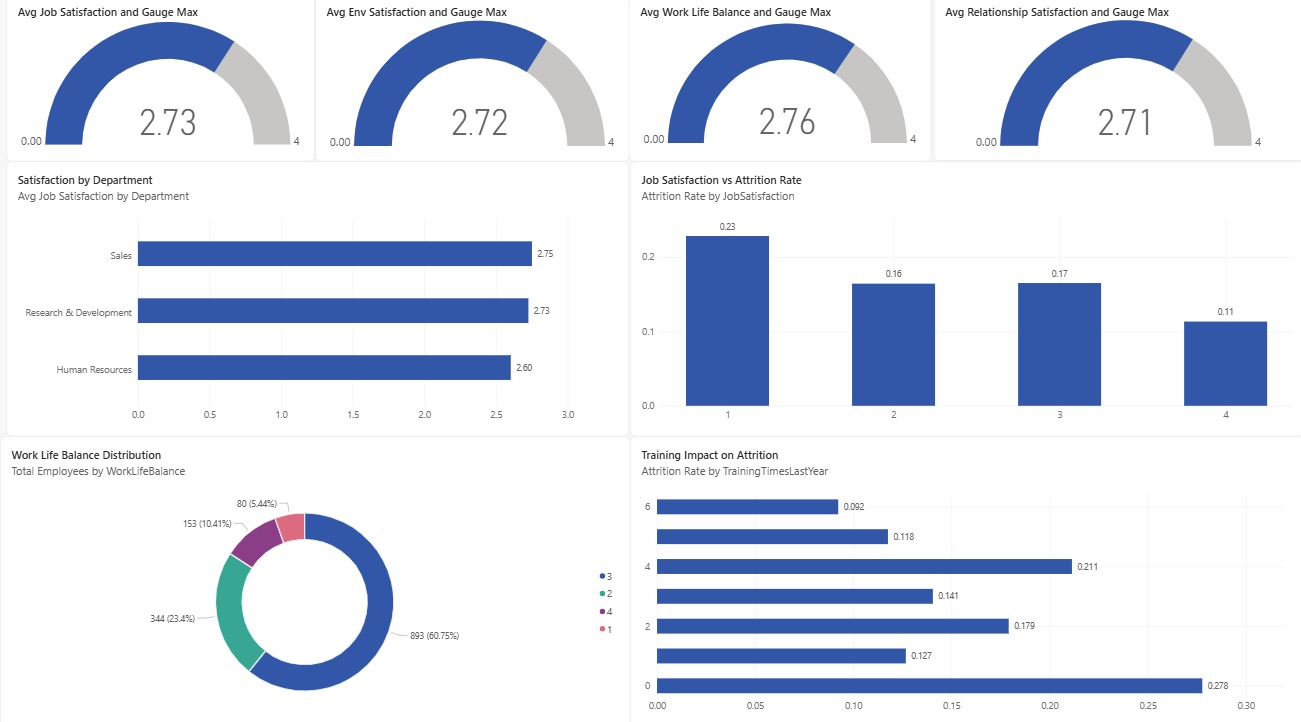

This screenshot's page, from the dashboard's own definition file:
{"tool":"powerbi","page":{"name":"SATISFACTION ANALYSIS","canvas":[1920,1080],"ordinal":2},"visuals":[{"type":"gauge","fields":{"MaxValue":["vw_hr_main.Gauge Max"],"Y":["vw_hr_main.Avg Job Satisfaction"]},"box":[9.2,0,454.6,246.6],"z":0},{"type":"gauge","fields":{"MaxValue":["vw_hr_main.Gauge Max"],"Y":["vw_hr_main.Avg Env Satisfaction"]},"box":[463.1,0,463.1,246.7],"z":1000},{"type":"gauge","fields":{"MaxValue":["vw_hr_main.Gauge Max"],"Y":["vw_hr_main.Avg Work Life Balance"]},"box":[926.3,0,445.8,246.7],"z":2000},{"type":"gauge","fields":{"MaxValue":["vw_hr_main.Gauge Max"],"Y":["vw_hr_main.Avg Relationship Satisfaction"]},"box":[1374.8,0,544.8,245.7],"z":3000},{"type":"clusteredBarChart","title":"Satisfaction by Department","fields":{"Category":["vw_hr_main.Department"],"Y":["vw_hr_main.Avg Job Satisfaction"]},"box":[9.2,246.6,916.6,404.9],"z":4000},{"type":"clusteredColumnChart","title":"Job Satisfaction vs Attrition Rate","fields":{"Category":["vw_hr_main.JobSatisfaction"],"Y":["vw_hr_main.Attrition Rate"]},"box":[927.6,246.6,992,404.9],"z":5000},{"type":"donutChart","title":"Work Life Balance Distribution","fields":{"Category":["vw_hr_main.WorkLifeBalance"],"Y":["vw_hr_main.Total Employees"]},"box":[0,651.5,927.6,428.8],"z":6000},{"type":"clusteredBarChart","title":"Training Impact on Attrition","fields":{"Category":["vw_hr_main.TrainingTimesLastYear"],"Y":["vw_hr_main.Attrition Rate"]},"box":[927.6,651.5,992,428.8],"z":7000}]}

Visuals, with their boxes in screenshot pixels (x1, y1, x2, y2), scaled from the page's 1920x1080 canvas onto the 1301x722 screenshot:
gauge - vw_hr_main.Gauge Max x vw_hr_main.Avg Job Satisfaction: region(6, 0, 314, 165)
gauge - vw_hr_main.Gauge Max x vw_hr_main.Avg Env Satisfaction: region(314, 0, 628, 165)
gauge - vw_hr_main.Gauge Max x vw_hr_main.Avg Work Life Balance: region(628, 0, 930, 165)
gauge - vw_hr_main.Gauge Max x vw_hr_main.Avg Relationship Satisfaction: region(932, 0, 1300, 164)
"Satisfaction by Department" clusteredBarChart: region(6, 165, 627, 436)
"Job Satisfaction vs Attrition Rate" clusteredColumnChart: region(629, 165, 1300, 436)
"Work Life Balance Distribution" donutChart: region(0, 436, 629, 721)
"Training Impact on Attrition" clusteredBarChart: region(629, 436, 1300, 721)
